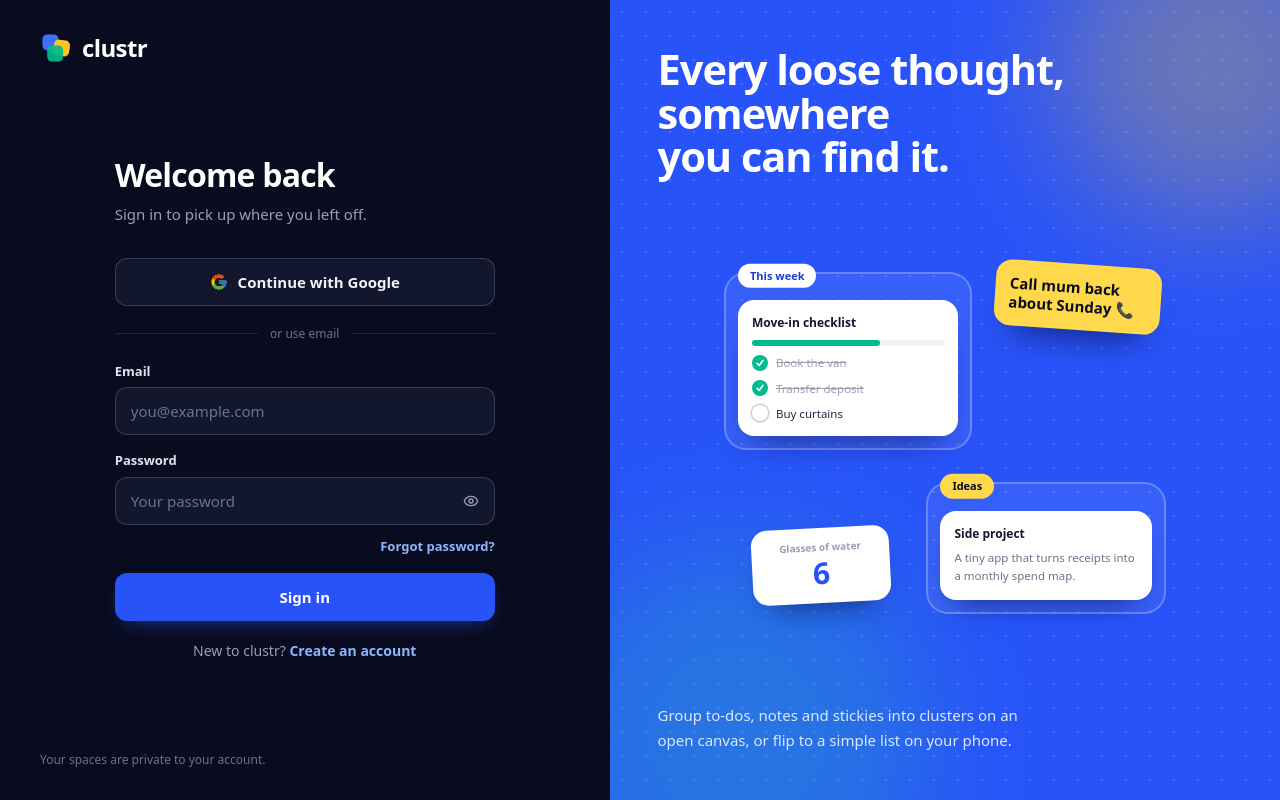
Test: sign-in guard › validates the form before contacting the server
The width and height of the screenshot is (1280, 800).
Click the button "Sign in": (305, 597) [115,573,495,621]
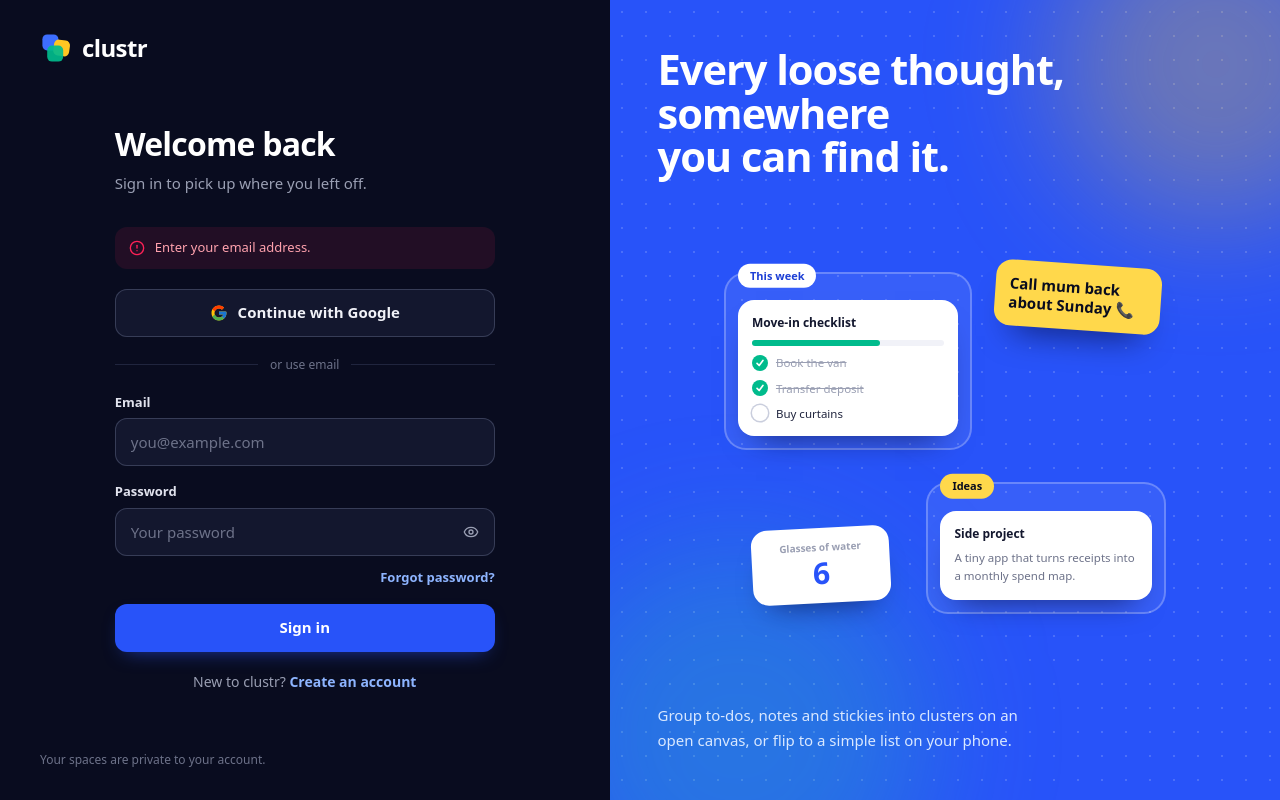
Now the text "Enter your email address." is shown, box [155,239,311,257]
